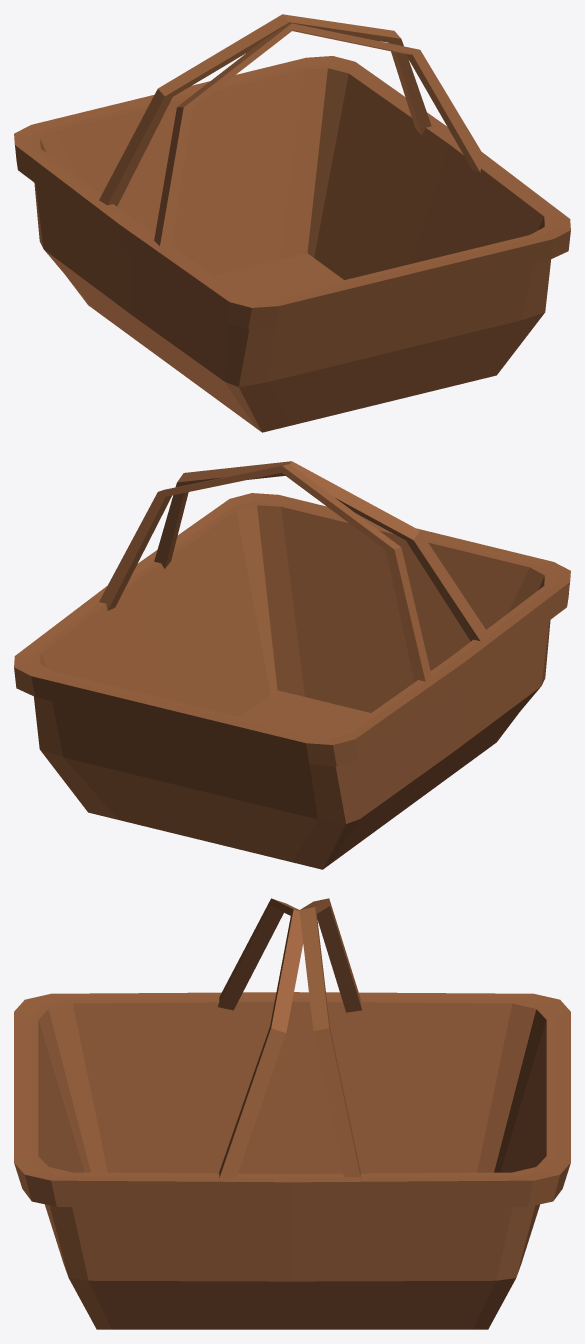
The model's file is Picnic_Basket_1.0.fbx.
3 renders of one model, top to bottom at view 1: azimuth 30°, elevation 25°; view 2: azimuth 150°, elevation 25°; view 3: azimuth 270°, elevation 25°, orthographic. The views are drawn at different scales.
Visible parts, largest first — view 1: Cube; view 2: Cube; view 3: Cube.
Boxes of the visible parts, x1,y1,x2,y2 form: Cube: (14, 14, 570, 432); Cube: (14, 461, 570, 869); Cube: (14, 898, 570, 1329).
Size of the model in its own units: 230 by 202 by 285.
